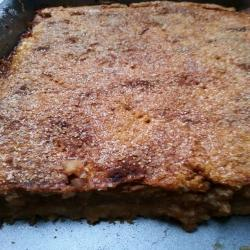apple_pie: (6, 8, 247, 225)
